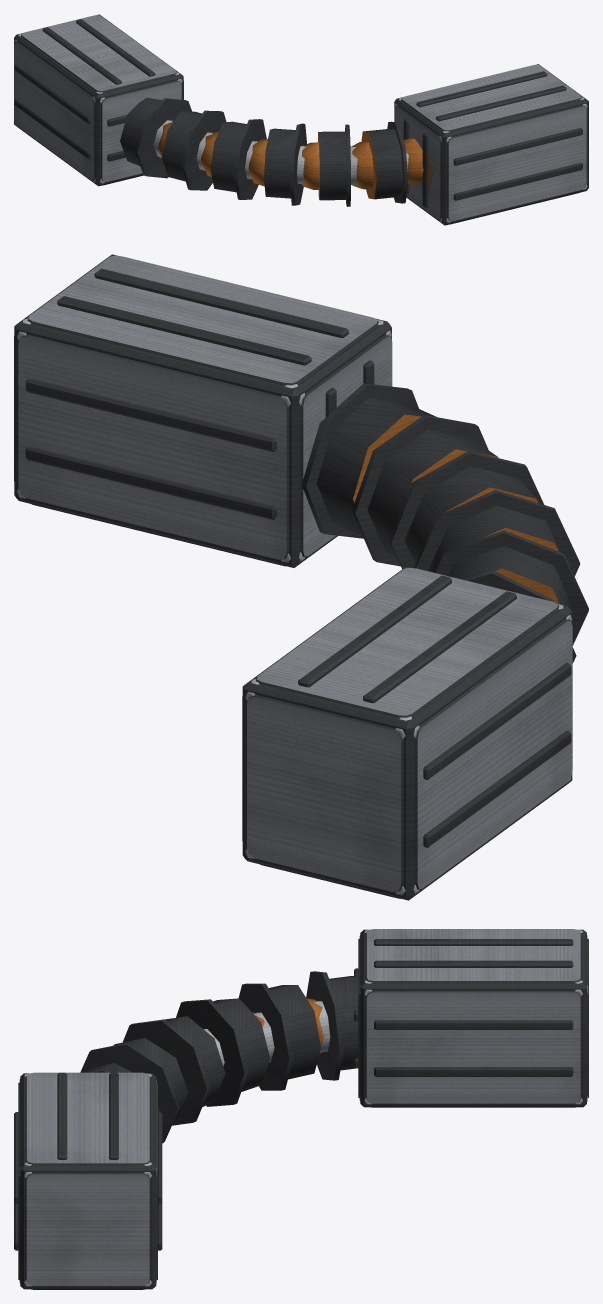
Rendered from R4C_ROD_ARC_SHORT.glb.
3 renders of one model, top to bottom at view 1: azimuth 30°, elevation 25°; view 2: azimuth 150°, elevation 25°; view 3: azimuth 270°, elevation 25°, orthographic. The views are drawn at different scales.
Visible parts, largest first — view 1: R4C_ROD_ARC_SHORT; view 2: R4C_ROD_ARC_SHORT; view 3: R4C_ROD_ARC_SHORT.
Part boxes in pixels (x1=…): R4C_ROD_ARC_SHORT: x1=14, y1=14, x2=588, y2=225; R4C_ROD_ARC_SHORT: x1=14, y1=254, x2=588, y2=900; R4C_ROD_ARC_SHORT: x1=14, y1=929, x2=588, y2=1289.
Size of the model in its own units: 0.93 by 0.233 by 0.93.
Materials: 4 (4 with a texture image).
